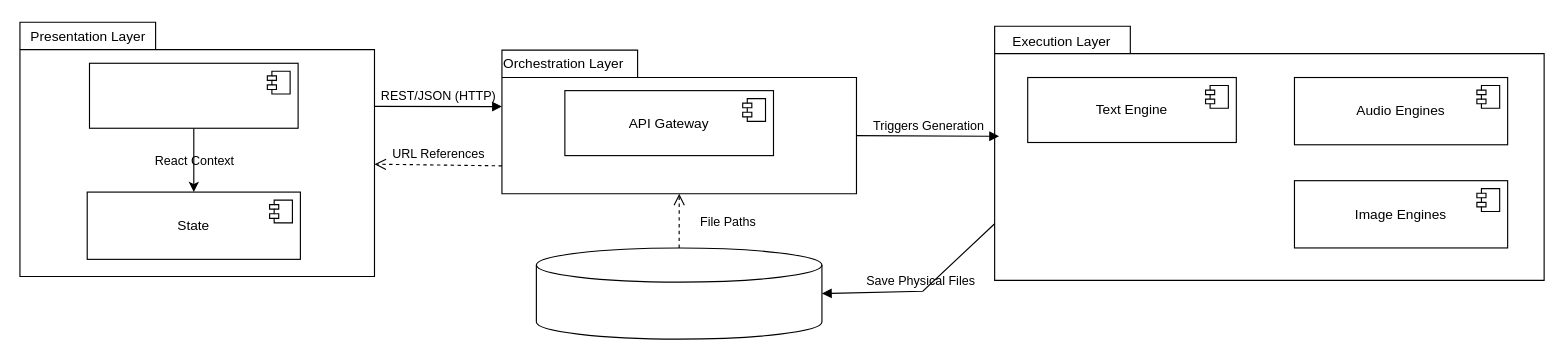
Image size: 1564x359. Some labels were removed from this diagram. The box of each missing label's shape, as (x1, y1, x2, y2) in pixels:
Storage (Generated Assets): (535, 247, 822, 339)
Web UI Components: (88, 62, 298, 128)
